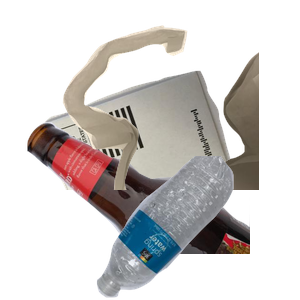glass: (25, 120, 265, 300)
paper: (42, 68, 275, 248)
plastic: (94, 156, 300, 300)
trash: (60, 23, 300, 203)
